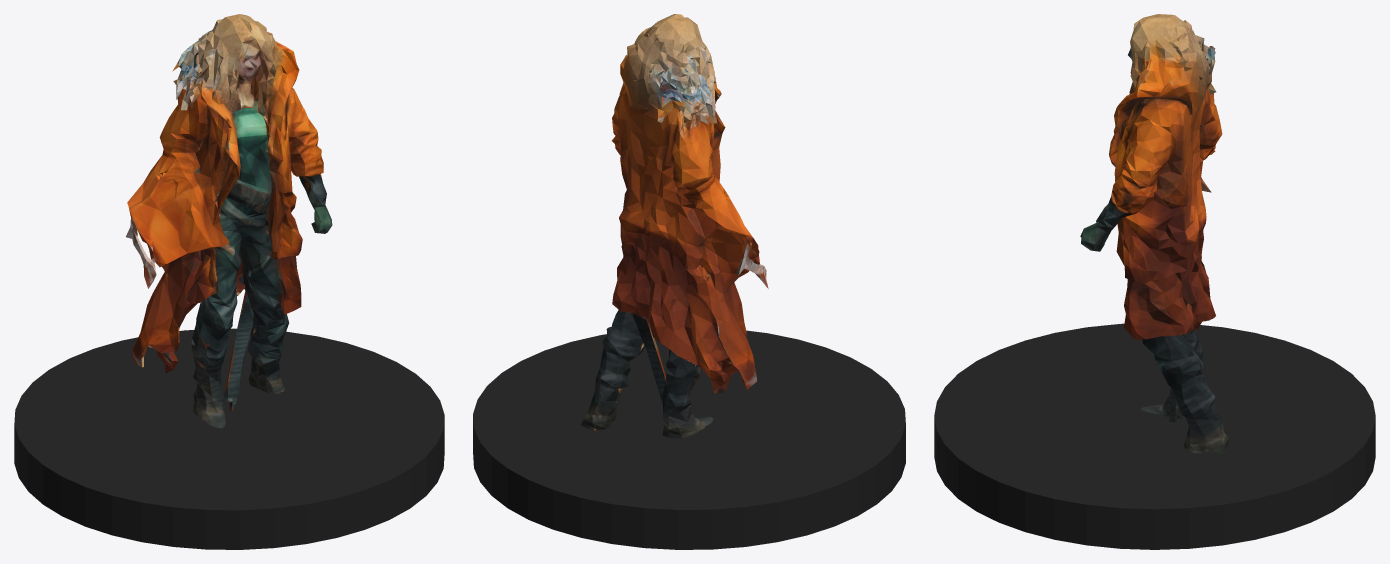
The model's file is bev-russell.glb.
3 views of the same model, side by side, from view 1: azimuth 30°, elevation 25°; view 2: azimuth 150°, elevation 25°; view 3: azimuth 270°, elevation 25° (orthographic). The views are drawn at different scales.
Parts seen in each view (by area): view 1: base, figure; view 2: base, figure; view 3: base, figure.
Boxes of the visible parts, x1,y1,x2,y2 form: base: (14, 328, 444, 549); figure: (126, 14, 332, 428); base: (473, 330, 905, 549); figure: (581, 14, 768, 438); base: (934, 323, 1375, 549); figure: (1080, 14, 1229, 453).
Size of the model in its own units: 1.18 by 1.32 by 1.18.
2 materials, 1 textured.
